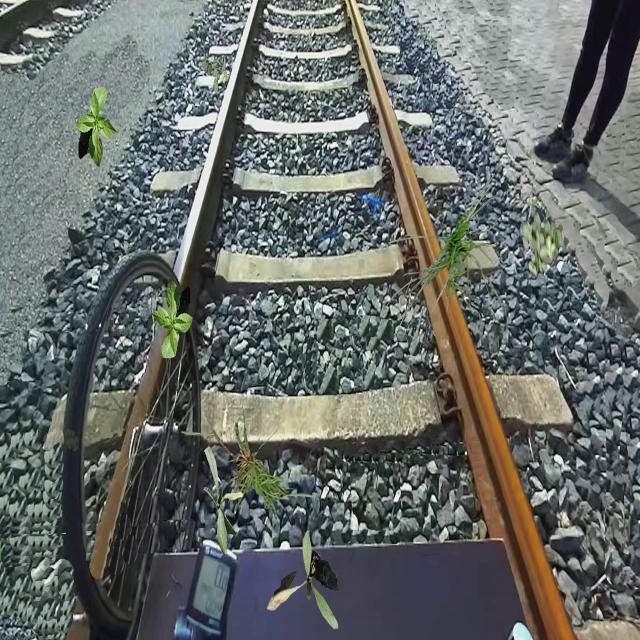Plant: (387, 173, 506, 337), (181, 401, 324, 520), (267, 530, 338, 630), (204, 446, 244, 556), (76, 87, 118, 167), (151, 279, 193, 359), (521, 211, 564, 278), (202, 52, 230, 93)
